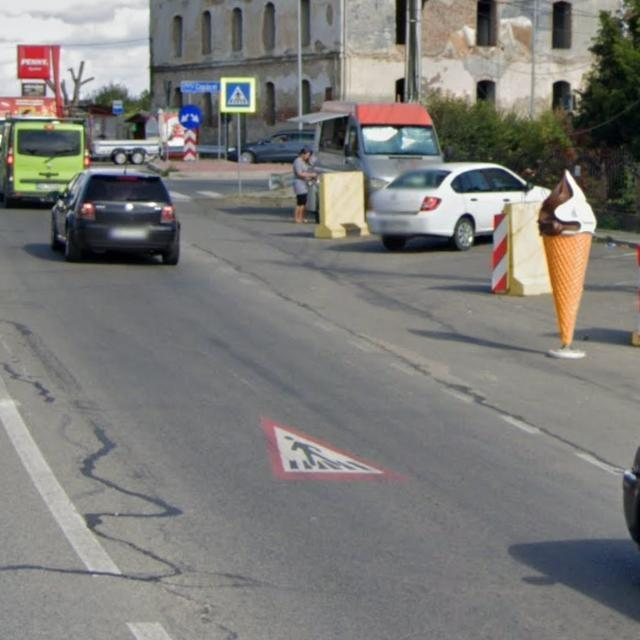info_crosswalk: (221, 78, 256, 114)
warn_crosswalk: (263, 417, 413, 482)
